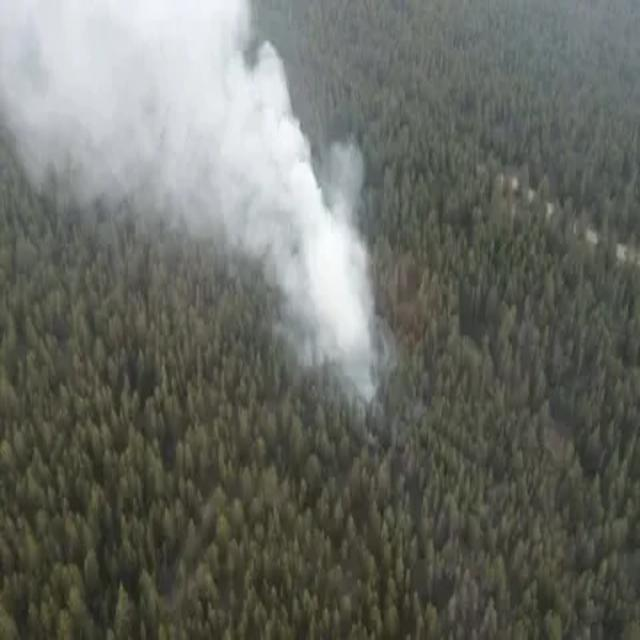Smoke: (0, 0, 402, 397)
